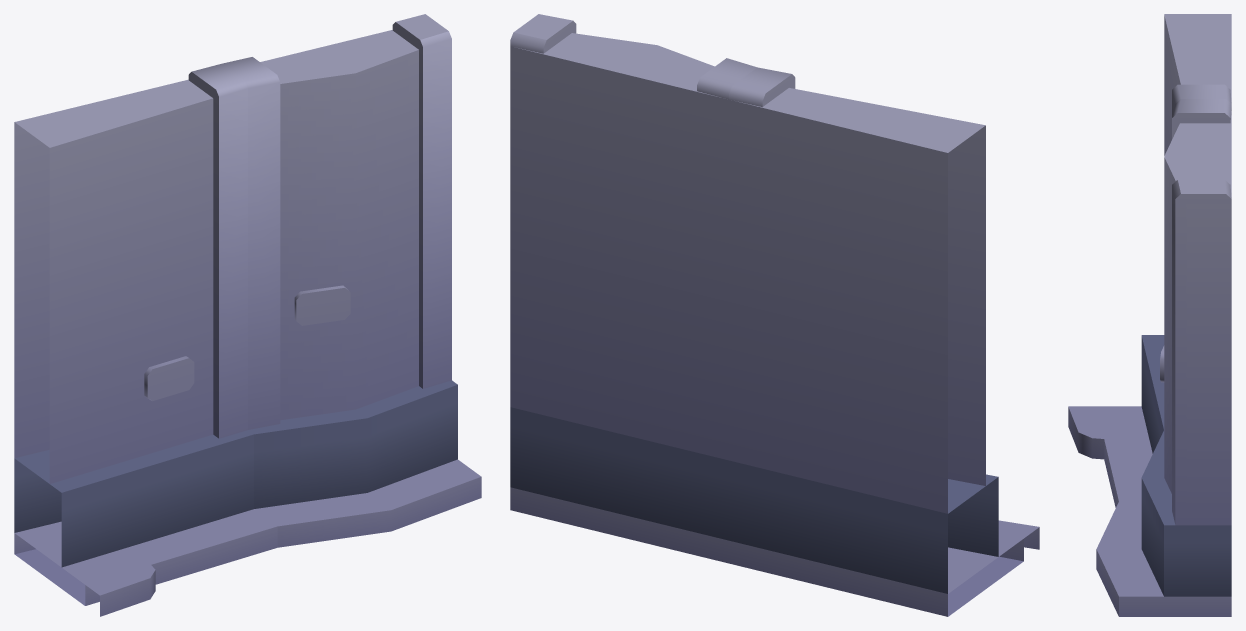
File: corridor-wide-part1.fbx
The picture shows the model from 3 angles, left to right: view 1: azimuth 30°, elevation 25°; view 2: azimuth 150°, elevation 25°; view 3: azimuth 270°, elevation 25°; orthographic projection. The views are drawn at different scales.
Parts seen in each view (by area): view 1: corridor-wide-part; view 2: corridor-wide-part; view 3: corridor-wide-part.
Part boxes in pixels (x1,y1,x2,y2): corridor-wide-part: (14,14,481,616); corridor-wide-part: (510,14,1039,616); corridor-wide-part: (1068,14,1231,616).
Bounding box in the file's own units: 160 × 166 × 58.08.
